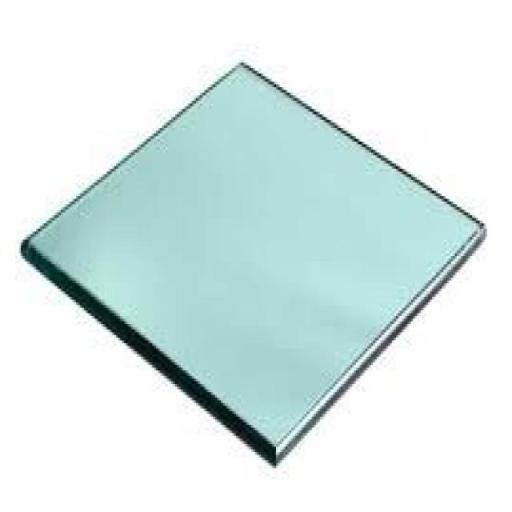glass: (11, 46, 496, 484)
